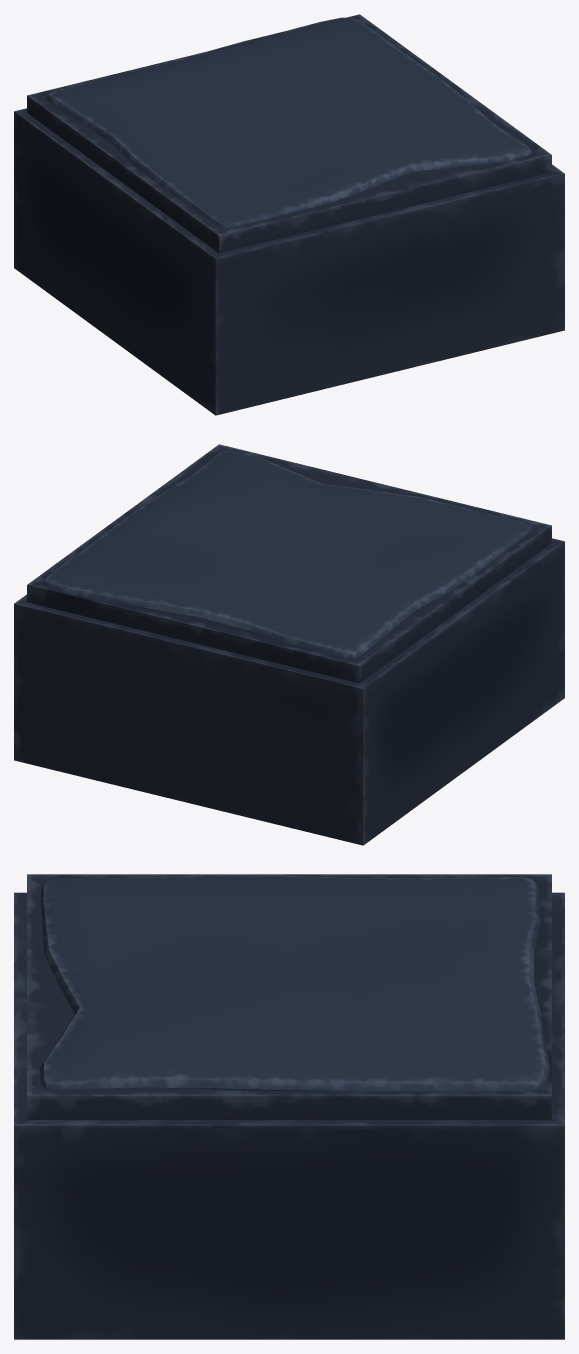
The model's file is Floor1-2.fbx.
3 views of the same model, one above another, from view 1: azimuth 30°, elevation 25°; view 2: azimuth 150°, elevation 25°; view 3: azimuth 270°, elevation 25° (orthographic). The views are drawn at different scales.
Parts seen in each view (by area): view 1: FloorTileB6; view 2: FloorTileB6; view 3: FloorTileB6.
Part boxes in pixels (x1=…): FloorTileB6: x1=14, y1=14, x2=564, y2=415; FloorTileB6: x1=14, y1=444, x2=564, y2=845; FloorTileB6: x1=14, y1=874, x2=564, y2=1339.
Bounding box in the file's own units: 2.1 × 1.07 × 2.1.
